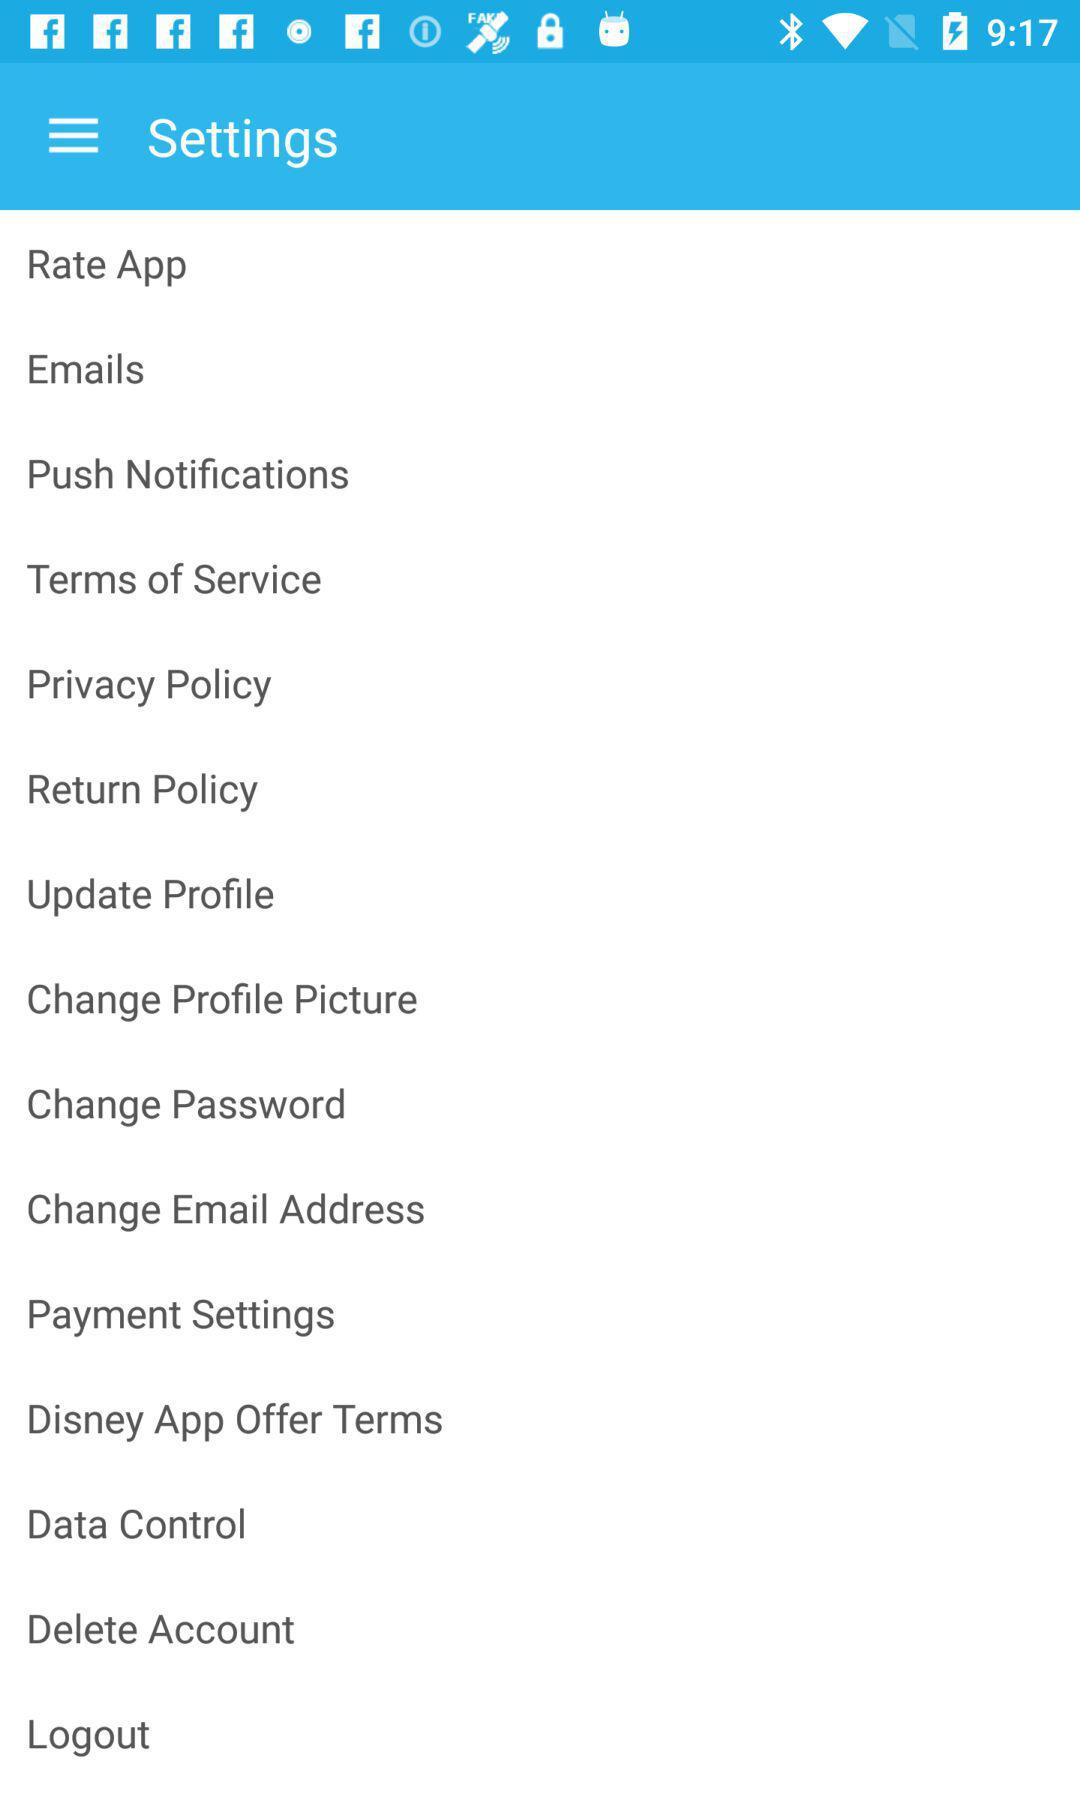Icon: (46, 115, 102, 158)
Text: (29, 1402, 443, 1443), (28, 982, 418, 1023), (28, 1193, 425, 1233), (28, 1088, 345, 1128), (29, 1299, 334, 1338), (29, 457, 348, 491), (147, 117, 340, 170), (29, 876, 275, 918), (29, 668, 273, 709), (27, 563, 322, 596), (29, 771, 260, 812), (29, 1615, 295, 1645), (29, 1507, 245, 1540), (29, 250, 187, 290), (29, 1718, 151, 1758), (29, 352, 145, 386)
UpperTaskBar: (1, 1, 1080, 64)
